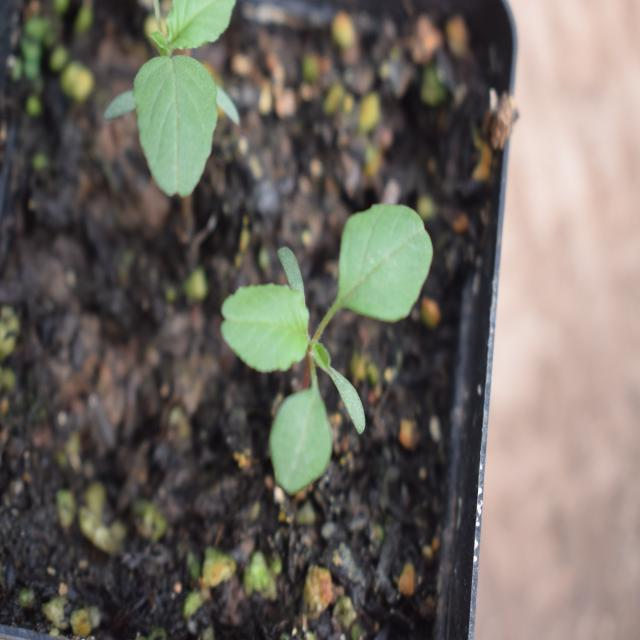pigweed: (220, 200, 431, 484), (119, 3, 250, 229)
